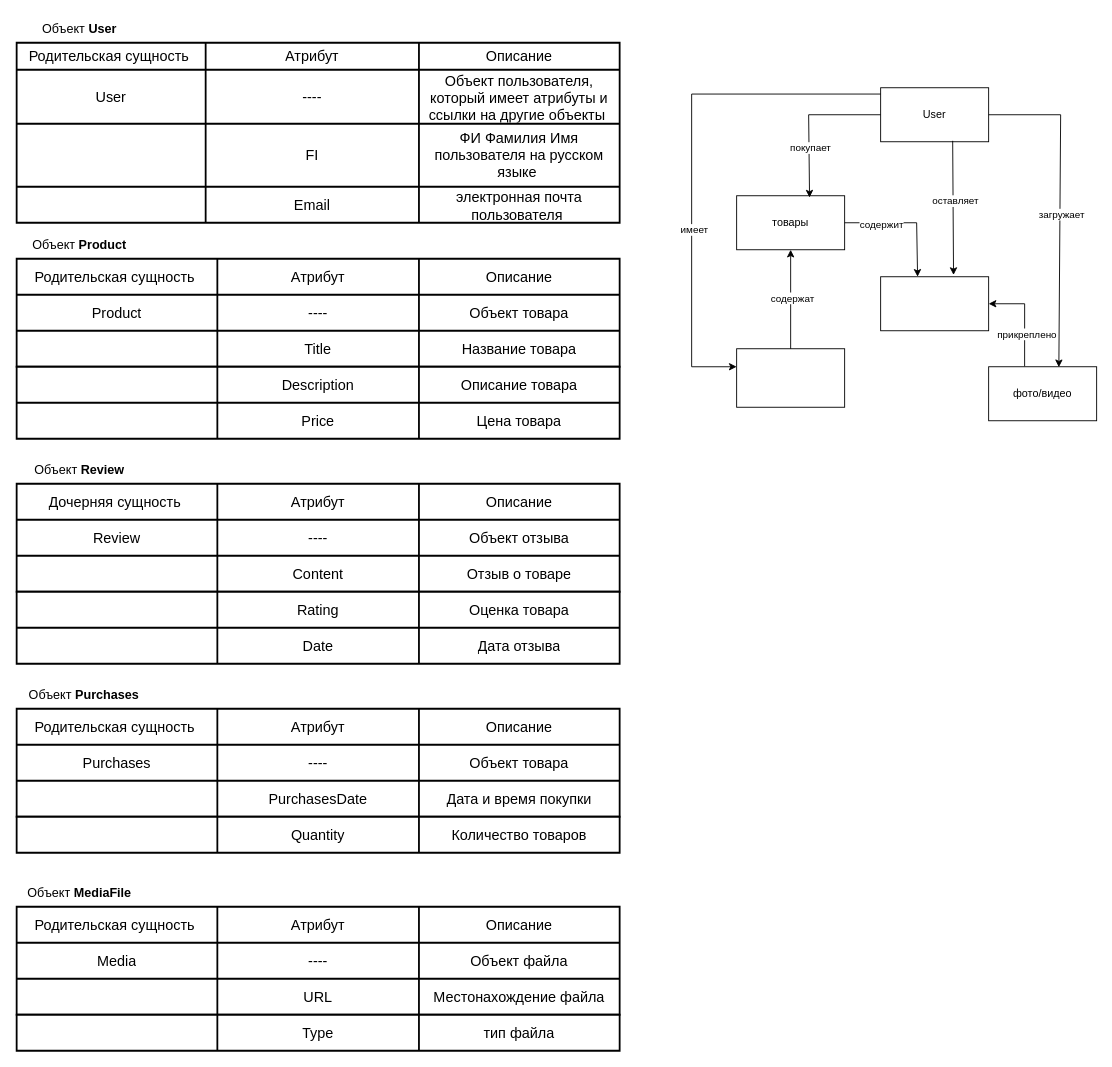
This 1112x1067 diagram has some shape labels left out. The centre of each missing label's shape, as x and y in pixels:
"отзывы" goes at (x=934, y=303).
"покупки" goes at (x=790, y=377).
